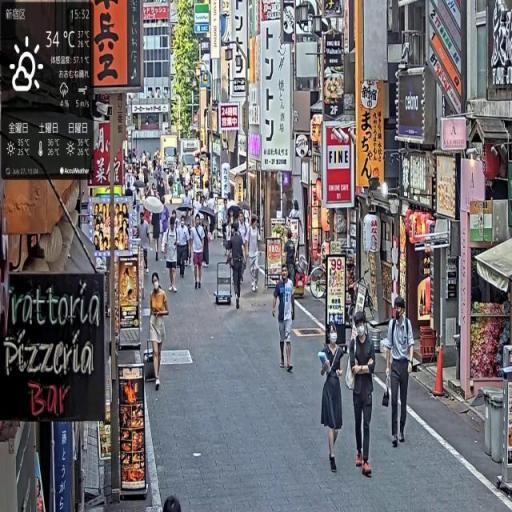person: (385, 294, 420, 447), (347, 310, 378, 477), (319, 325, 348, 475), (272, 264, 297, 372), (149, 271, 171, 393), (228, 220, 247, 311), (247, 212, 264, 292), (191, 213, 208, 291), (164, 215, 180, 294), (177, 215, 191, 284)
